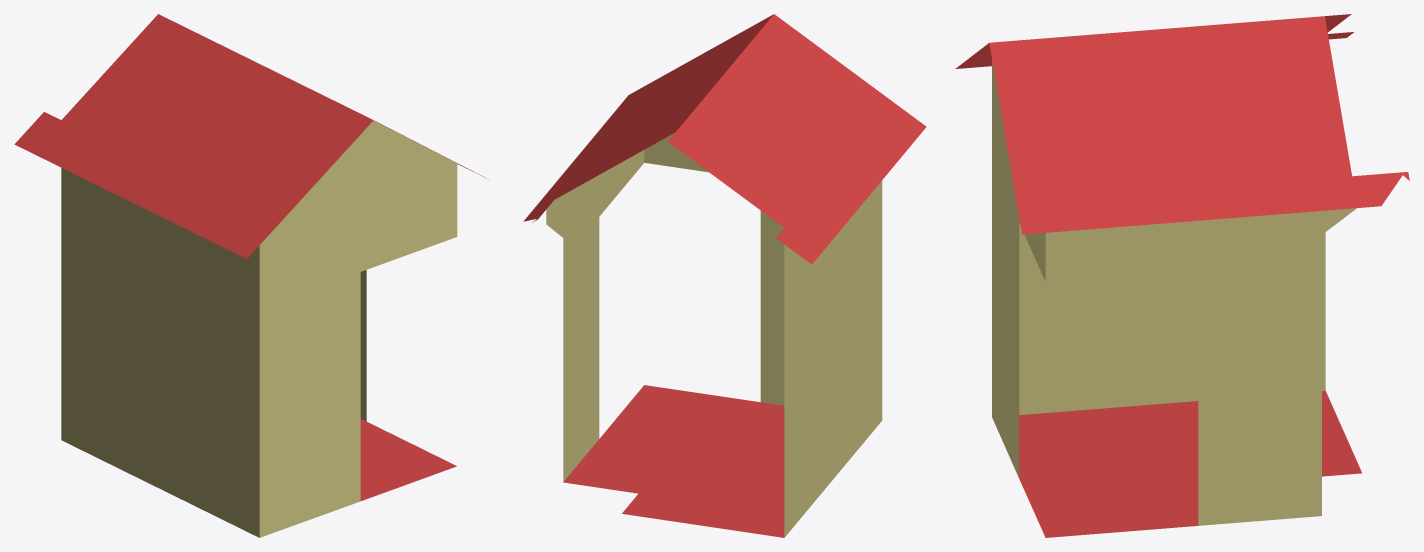
3 views of the same model, side by side, from view 1: azimuth 30°, elevation 25°; view 2: azimuth 150°, elevation 25°; view 3: azimuth 270°, elevation 25° (orthographic). The views are drawn at different scales.
Size of the model in its own units: 14.62 by 15.43 by 16.32.
